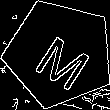M_NE: (26, 20, 93, 87)
